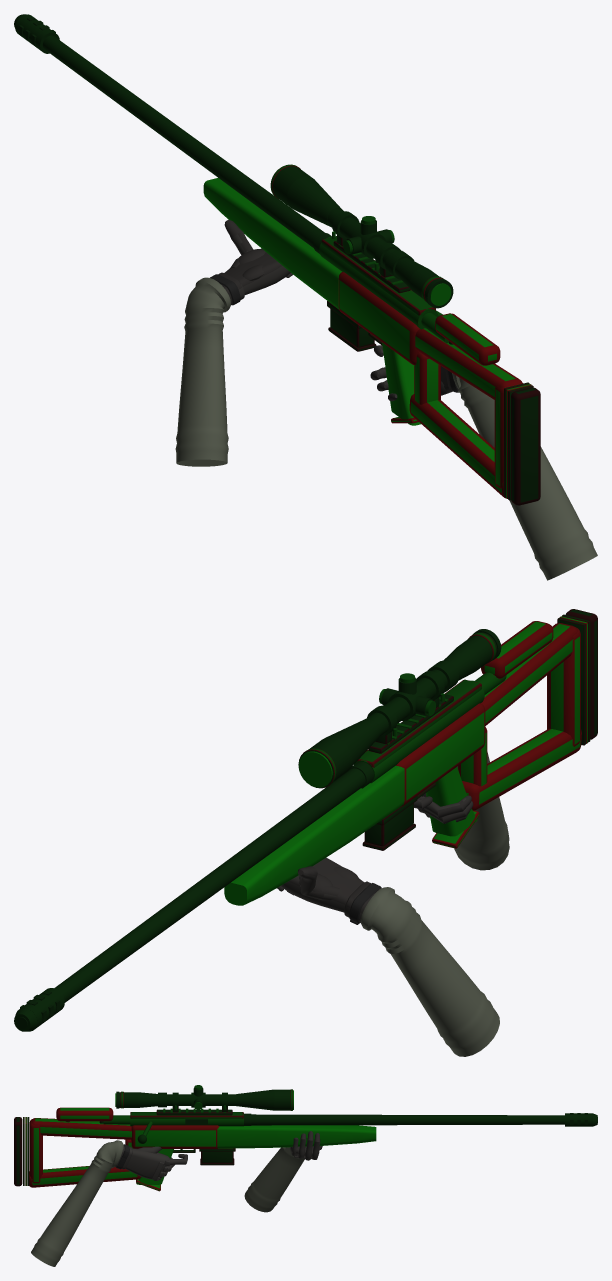
File: awp.glb
3 views of the same model, one above another, from view 1: azimuth 30°, elevation 25°; view 2: azimuth 150°, elevation 25°; view 3: azimuth 270°, elevation 25° (orthographic). The views are drawn at different scales.
Visible parts, largest first — view 1: AWP, ArmL, ArmR, HandL, Mag, HandR; view 2: AWP, ArmL, HandL, ArmR, Mag, HandR; view 3: AWP, ArmR, ArmL, HandR, HandL, Mag, bolt_knob.
Part boxes in pixels (box(x1,y1,x2,y2)): AWP: box(14, 14, 540, 505); ArmL: box(175, 277, 230, 466); ArmR: box(452, 373, 597, 580); HandL: box(210, 220, 293, 305); Mag: box(328, 309, 376, 351); HandR: box(370, 345, 458, 401); AWP: box(14, 609, 597, 1031); ArmL: box(360, 887, 499, 1056); HandL: box(276, 857, 381, 924); ArmR: box(454, 752, 509, 870); Mag: box(362, 803, 415, 850); HandR: box(414, 766, 473, 823); AWP: box(14, 1085, 597, 1191); ArmR: box(31, 1140, 123, 1266); ArmL: box(244, 1147, 304, 1212); HandR: box(115, 1144, 187, 1180); HandL: box(290, 1131, 322, 1160); Mag: box(200, 1151, 234, 1165); bolt_knob: box(103, 1115, 152, 1143).
Size of the model in its own units: 0.3955 by 0.4701 by 1.54.
